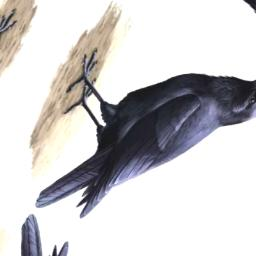Crow: (4, 0, 256, 256)
